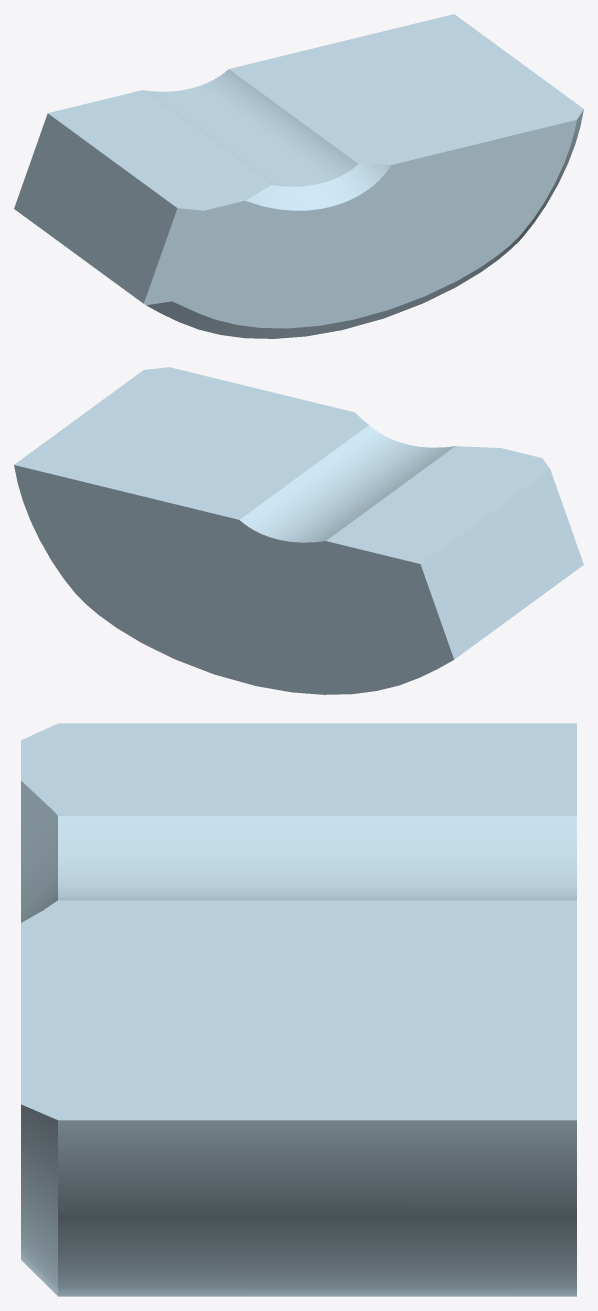
Rendered from STAM - S0.gltf.
3 views of the same model, one above another, from view 1: azimuth 30°, elevation 25°; view 2: azimuth 150°, elevation 25°; view 3: azimuth 270°, elevation 25° (orthographic). The views are drawn at different scales.
Parts seen in each view (by area): view 1: S0; view 2: S0; view 3: S0.
Boxes of the visible parts, x1=… form: S0: x1=14, y1=14, x2=583, y2=338; S0: x1=14, y1=367, x2=583, y2=694; S0: x1=21, y1=723, x2=576, y2=1296.
Size of the model in its own units: 0.0274 by 0.00965 by 0.015.
